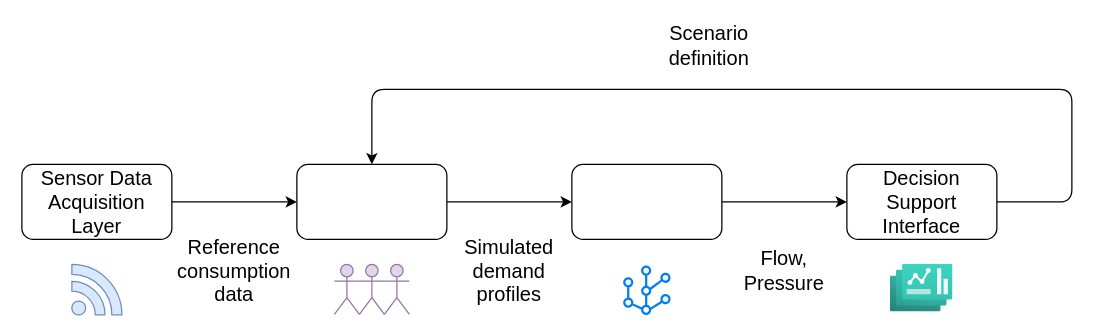
Some shapes in this 1104 by 336 pixel diagram are drawn without their labels. The box of each missing label's shape, as (x1, y1, x2, y2) in pixels:
ABM Engine: (296, 163, 447, 239)
Hydraulic Network Solver: (571, 163, 722, 239)
